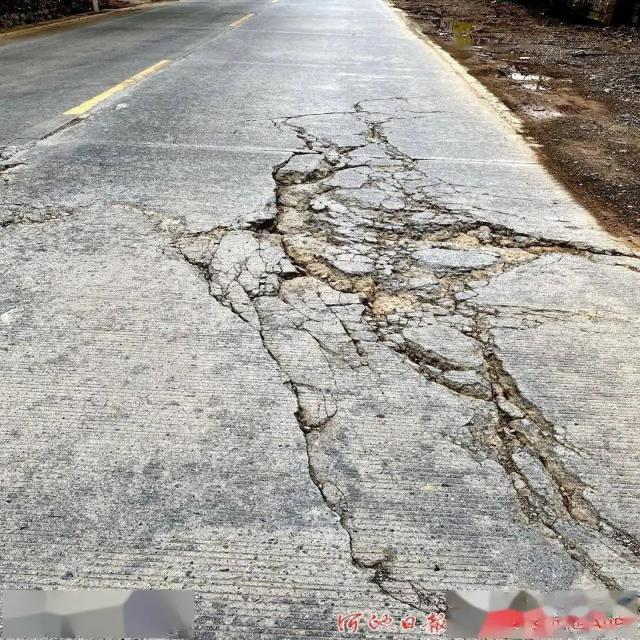Pothole: (182, 99, 638, 622), (2, 114, 92, 241)
